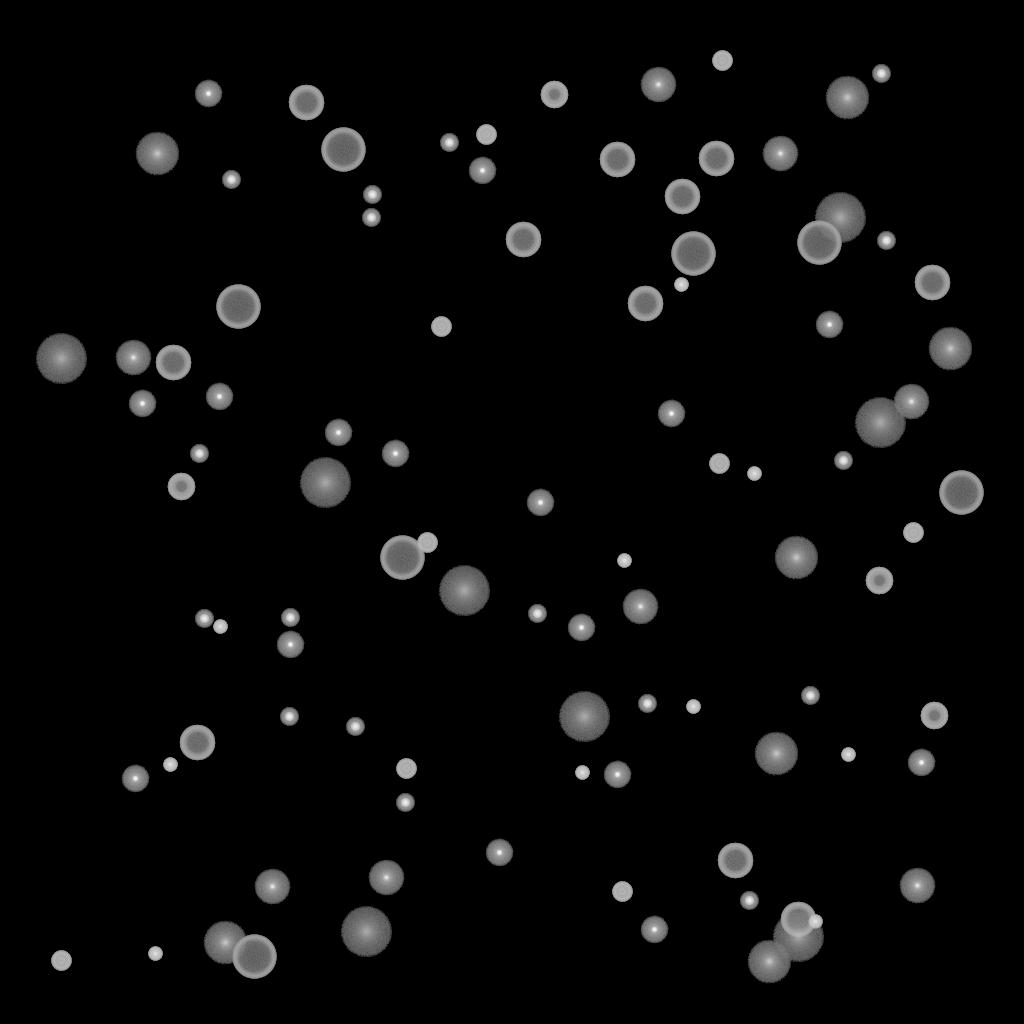depth:-10: (128, 390, 156, 418), (276, 631, 304, 659), (526, 489, 554, 517), (657, 400, 685, 428), (815, 311, 843, 339), (603, 761, 631, 789), (485, 839, 513, 867), (381, 440, 409, 468), (907, 749, 935, 777), (468, 157, 496, 185), (121, 765, 149, 793), (205, 383, 233, 411), (194, 80, 222, 108), (567, 614, 595, 642), (640, 916, 668, 944), (324, 419, 352, 447)
depth:-20: (281, 609, 299, 627), (834, 452, 852, 470), (190, 445, 208, 463), (528, 605, 546, 623), (362, 209, 380, 227), (740, 892, 758, 910), (222, 171, 240, 189), (346, 718, 364, 736), (638, 695, 656, 713), (440, 134, 458, 152), (363, 186, 381, 204), (801, 687, 819, 705), (877, 232, 895, 250), (195, 610, 213, 628), (280, 708, 298, 726), (872, 65, 890, 83), (396, 794, 414, 812)
depth:-30: (674, 278, 688, 292), (163, 758, 177, 772), (575, 766, 589, 780), (148, 947, 162, 961), (686, 700, 700, 714), (841, 748, 855, 762), (747, 467, 761, 481), (213, 620, 227, 634), (808, 915, 822, 929), (617, 554, 631, 568)
depth:-40: (396, 759, 416, 779), (903, 523, 923, 543), (431, 317, 451, 337), (476, 125, 496, 145), (709, 454, 729, 474), (612, 882, 632, 902), (417, 533, 437, 553), (51, 951, 71, 971), (712, 51, 732, 71)
depth:-50: (540, 81, 568, 109), (865, 567, 893, 595), (920, 702, 948, 730), (167, 473, 195, 501)
depth:-60: (664, 179, 700, 215), (288, 85, 324, 121), (780, 902, 816, 938), (155, 345, 191, 381), (698, 141, 734, 177), (627, 286, 663, 322), (505, 222, 541, 258), (717, 843, 753, 879), (914, 265, 950, 301), (179, 725, 215, 761), (599, 142, 635, 178)
depth:-70: (232, 935, 276, 979), (797, 221, 841, 265), (321, 128, 365, 172), (216, 285, 260, 329), (939, 471, 983, 515), (671, 232, 715, 276), (380, 536, 424, 580)
depth:0: (622, 589, 658, 625), (115, 340, 151, 376), (893, 384, 929, 420), (368, 860, 404, 896), (899, 868, 935, 904), (254, 869, 290, 905), (640, 67, 676, 103), (762, 136, 798, 172)
depth:10: (203, 921, 247, 965), (928, 327, 972, 371), (754, 732, 798, 776), (825, 76, 869, 120), (747, 940, 791, 984), (135, 132, 179, 176), (774, 536, 818, 580)
depth:20: (814, 193, 866, 243), (438, 566, 490, 616), (299, 458, 351, 508), (772, 912, 824, 962), (340, 907, 392, 957), (558, 692, 610, 742), (35, 334, 87, 384), (854, 398, 906, 448)
